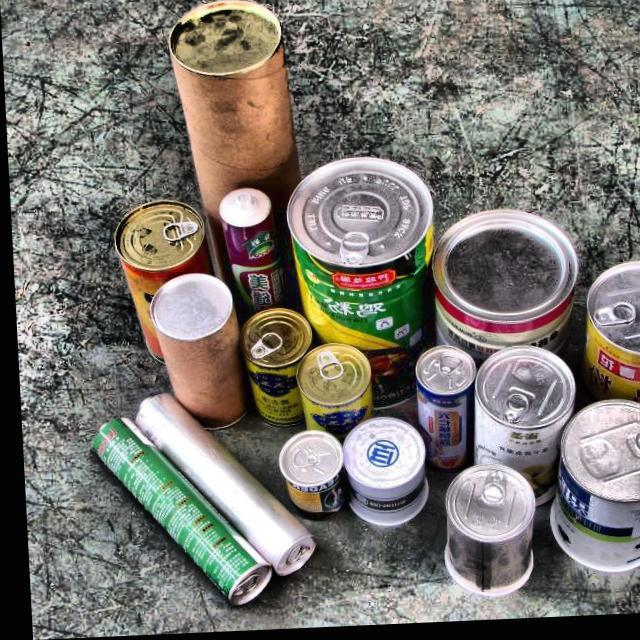litter: (107, 385, 319, 586), (66, 416, 272, 612), (276, 148, 440, 354), (416, 198, 584, 364), (452, 344, 582, 516), (534, 398, 640, 588), (110, 188, 212, 374), (430, 468, 535, 602), (571, 248, 640, 412), (338, 416, 433, 534), (160, 0, 296, 81), (240, 305, 321, 426), (408, 340, 480, 475), (286, 338, 374, 448), (212, 182, 280, 322), (137, 270, 240, 352), (264, 428, 348, 518)
